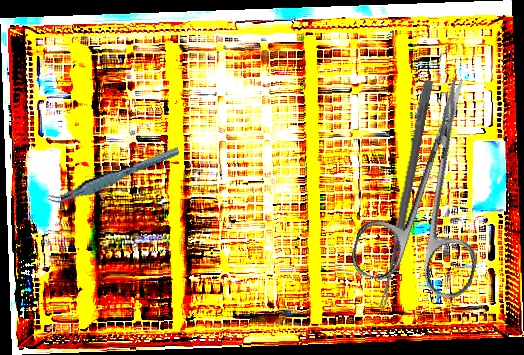Iris Scissors: (347, 63, 522, 304)
Surgical Spoon: (377, 79, 434, 310)
Tissue Forceps: (43, 146, 184, 207)
